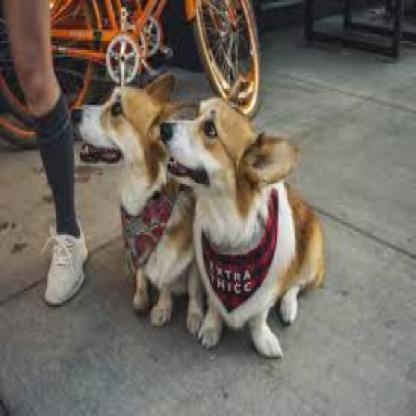dog: (159, 95, 325, 359), (80, 72, 206, 335)
